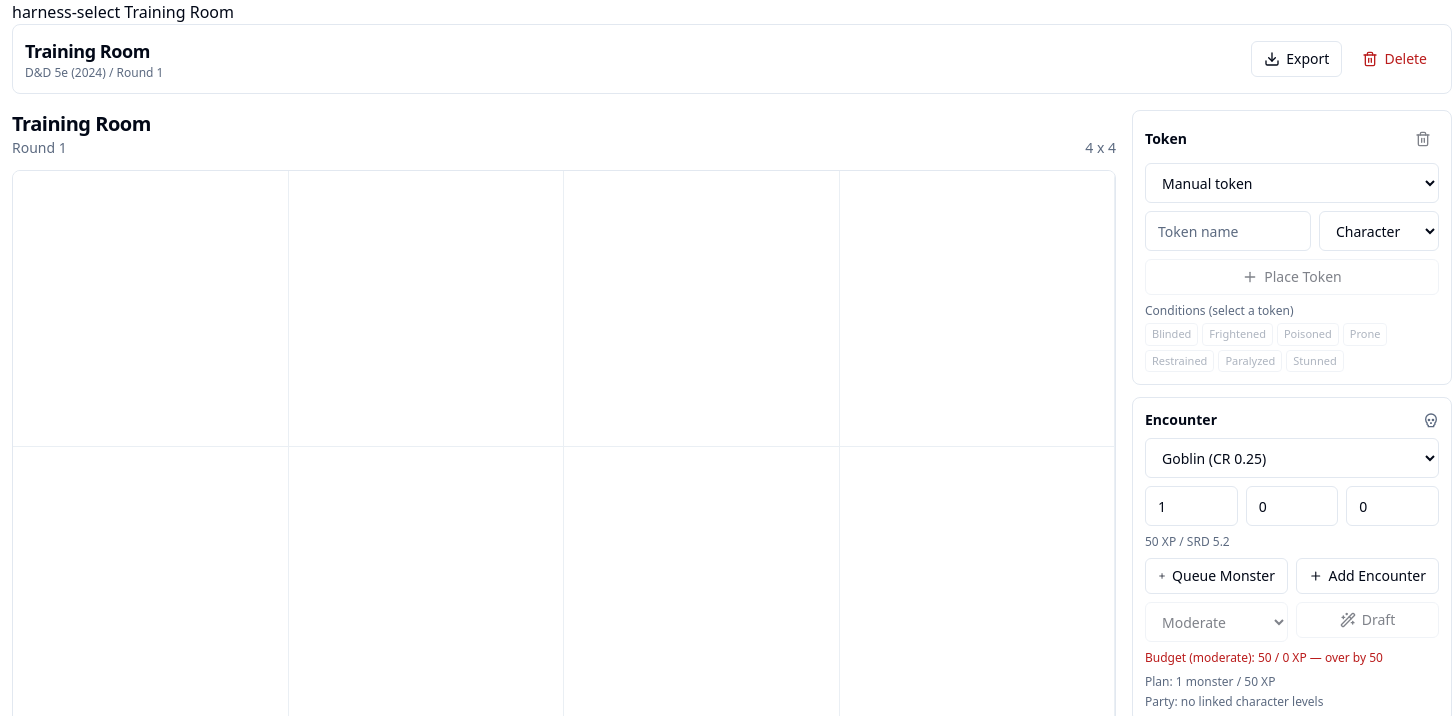
SceneManager › REGRESSION (05-M6): Run Round advances the scene round machinery
Check: the dropdown named "encounter monster" shows "Goblin (CR 0.25)", box [1145,438,1439,478]
Replace the text in the field named "encounter count" with "2" at (1191, 506), box [1145,486,1238,526]
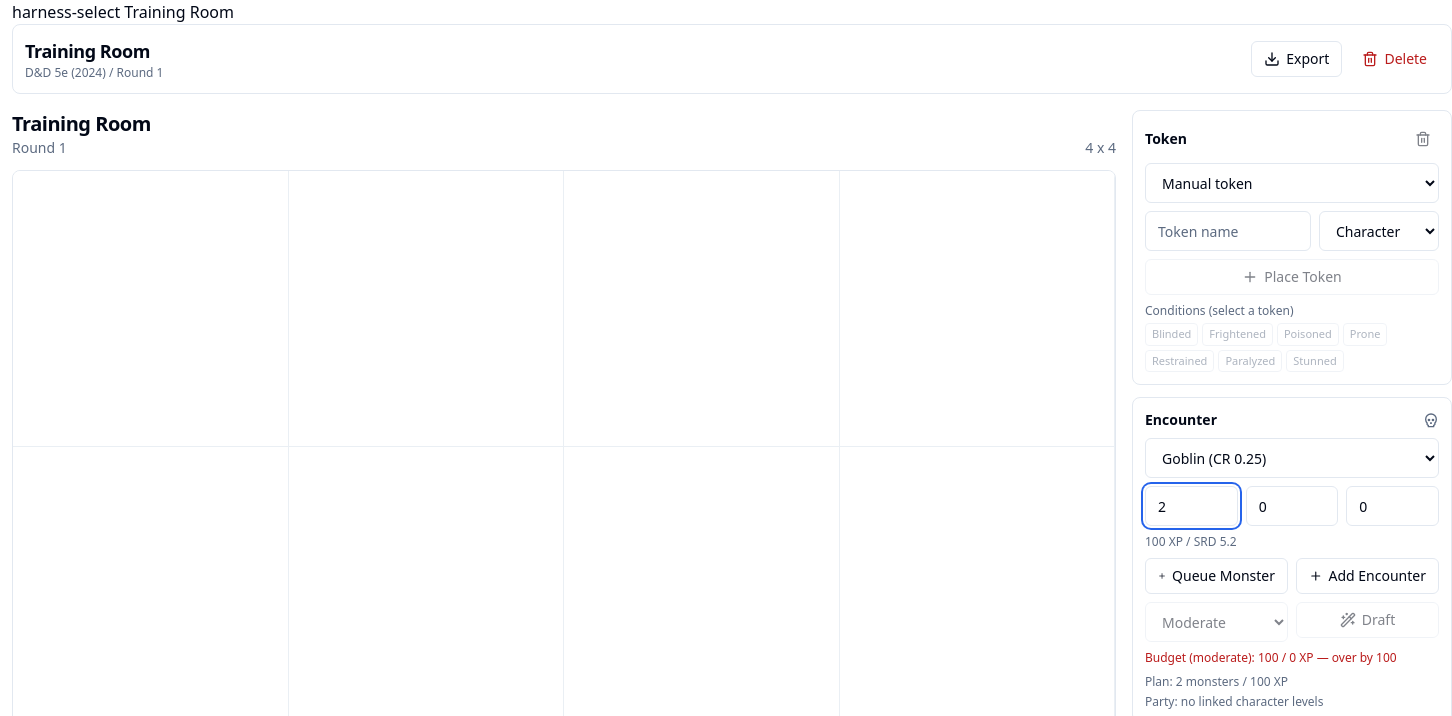
Click the button "Add Encounter" at (1368, 576), box [1296,558,1439,594]
(page scrolled)
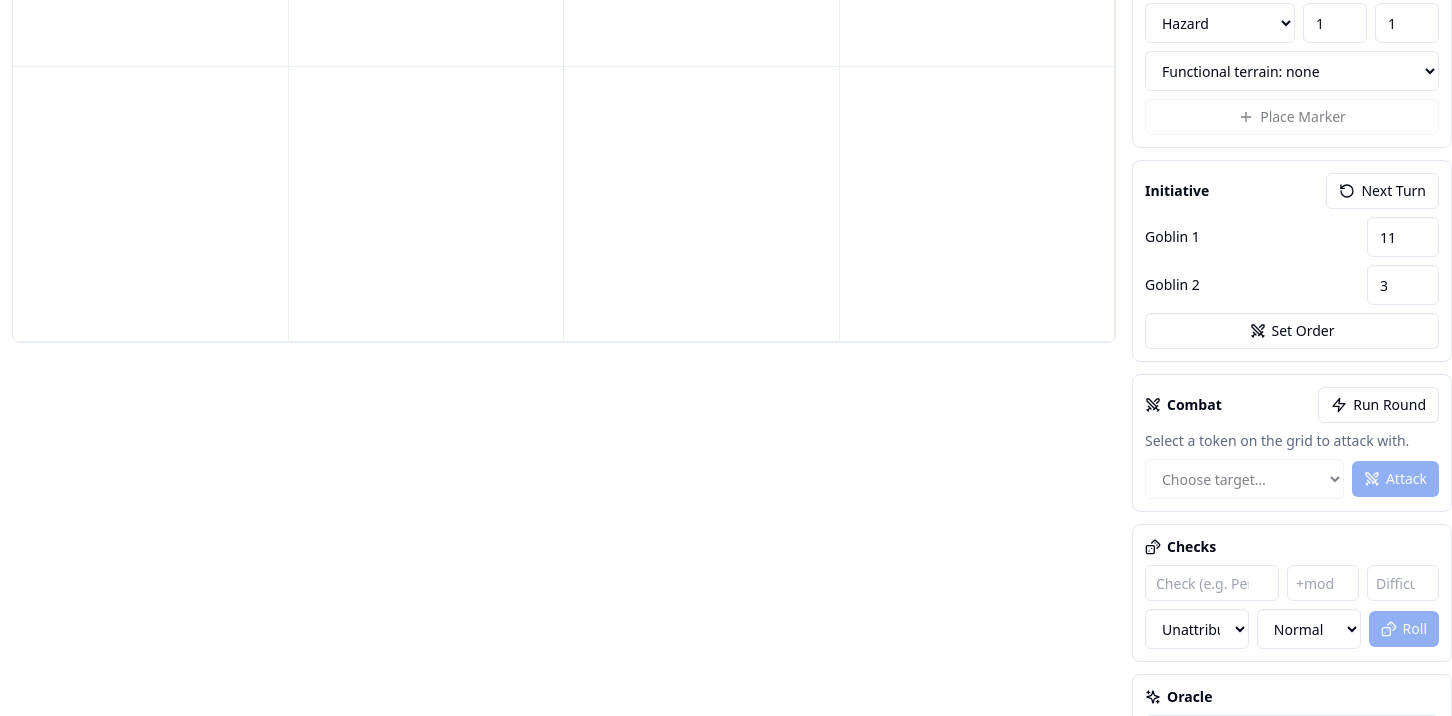
Click the button "Run Round" at (1379, 405), box [1318,387,1439,423]
(page scrolled)
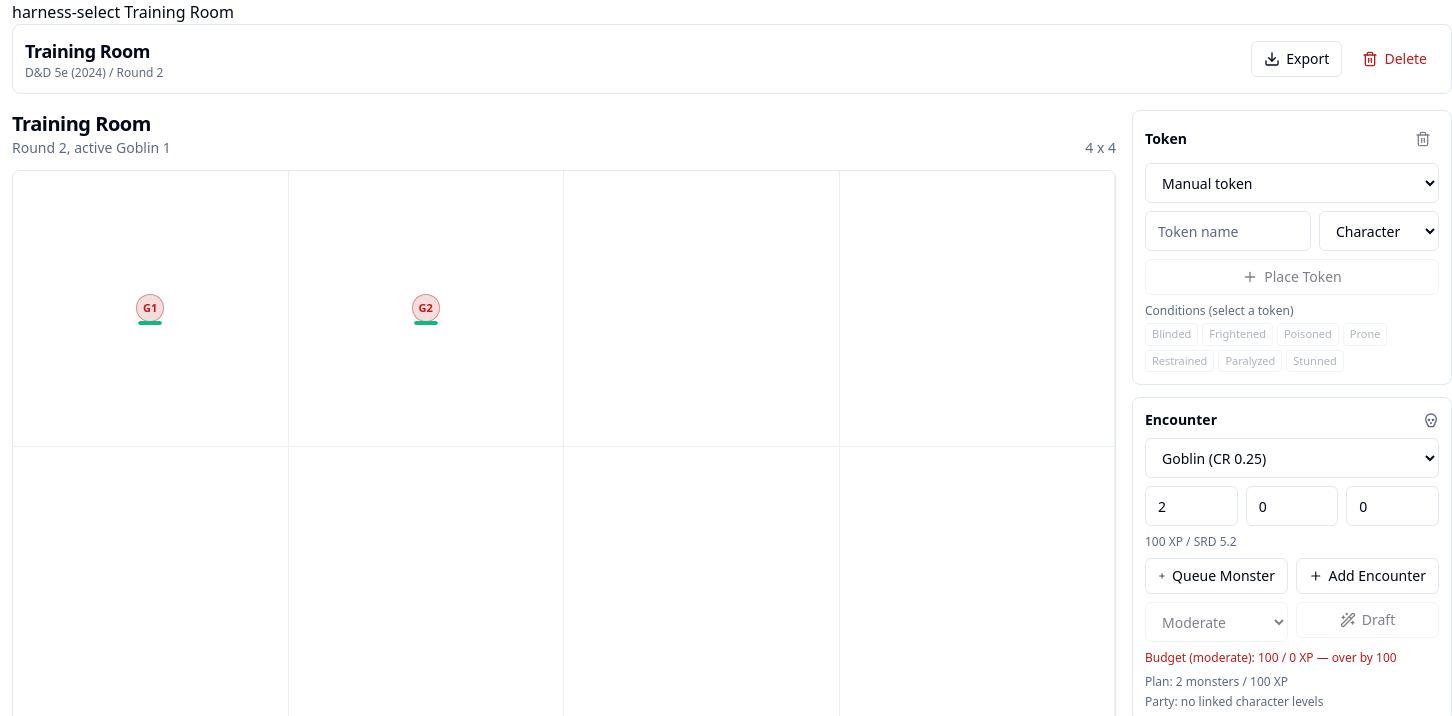
Check: the text "Round 2, active Goblin 1" is shown, box [12,138,171,158]
